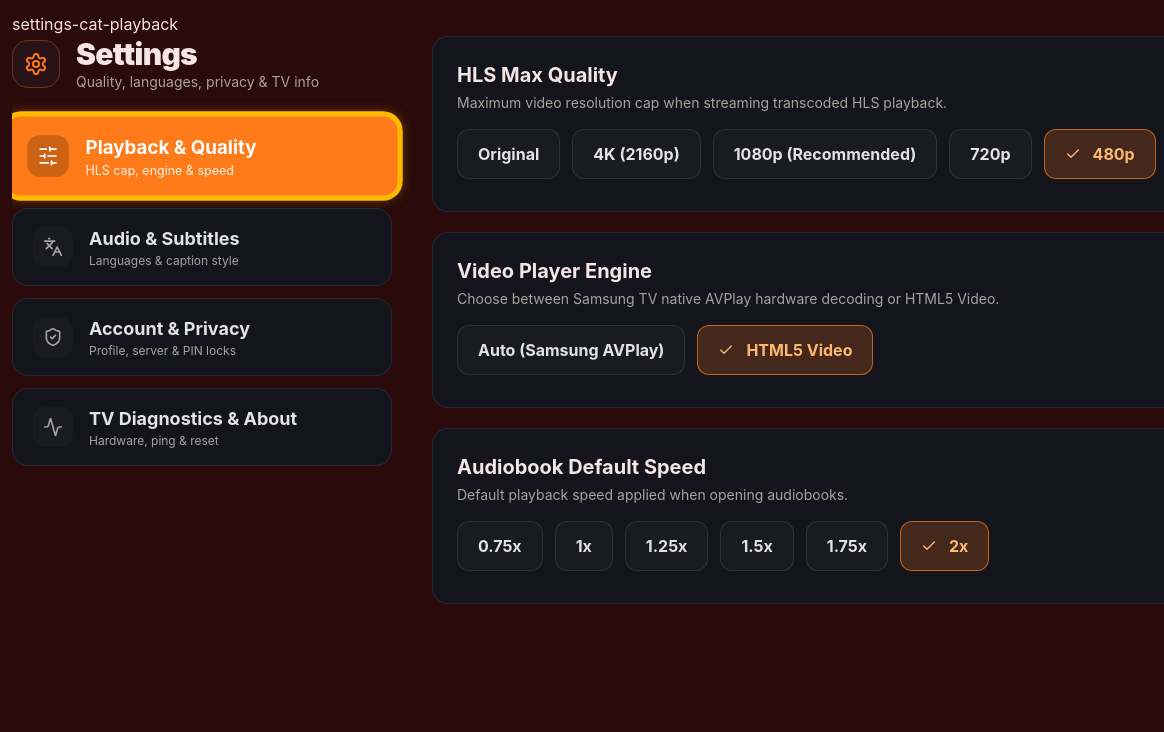
it: SettingsView › displays TV diagnostics telemetry, probes /api/v1/discovery, and resets all preferences
Later steps or results of the test are not shown.
Click the button with test id "settings-cat-diagnostics" at {"x": 202, "y": 427}, box [12,388,392,466]
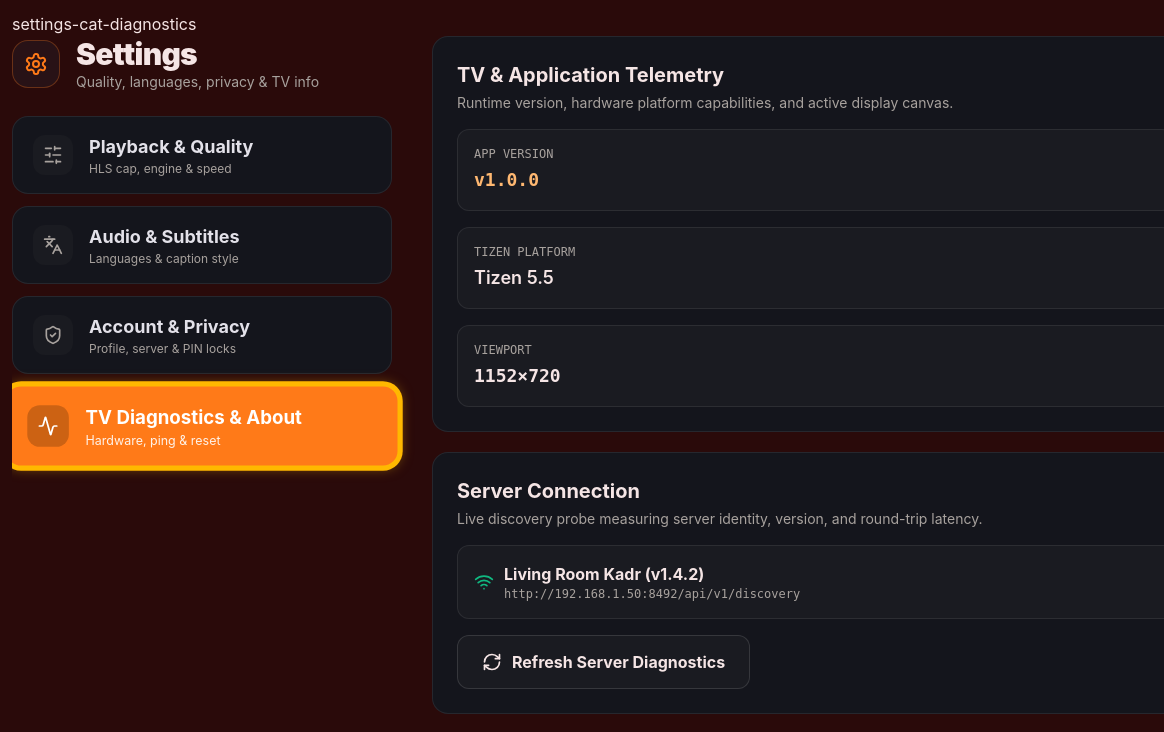
Check: the text "v1.0.0" is shown, box [474,169,539,190]
Check: the text "Tizen 5.5" is shown, box [474,267,554,288]
Check: the text "Living Room Kadr (v1.4.2)" is shown, box [504,564,704,584]
